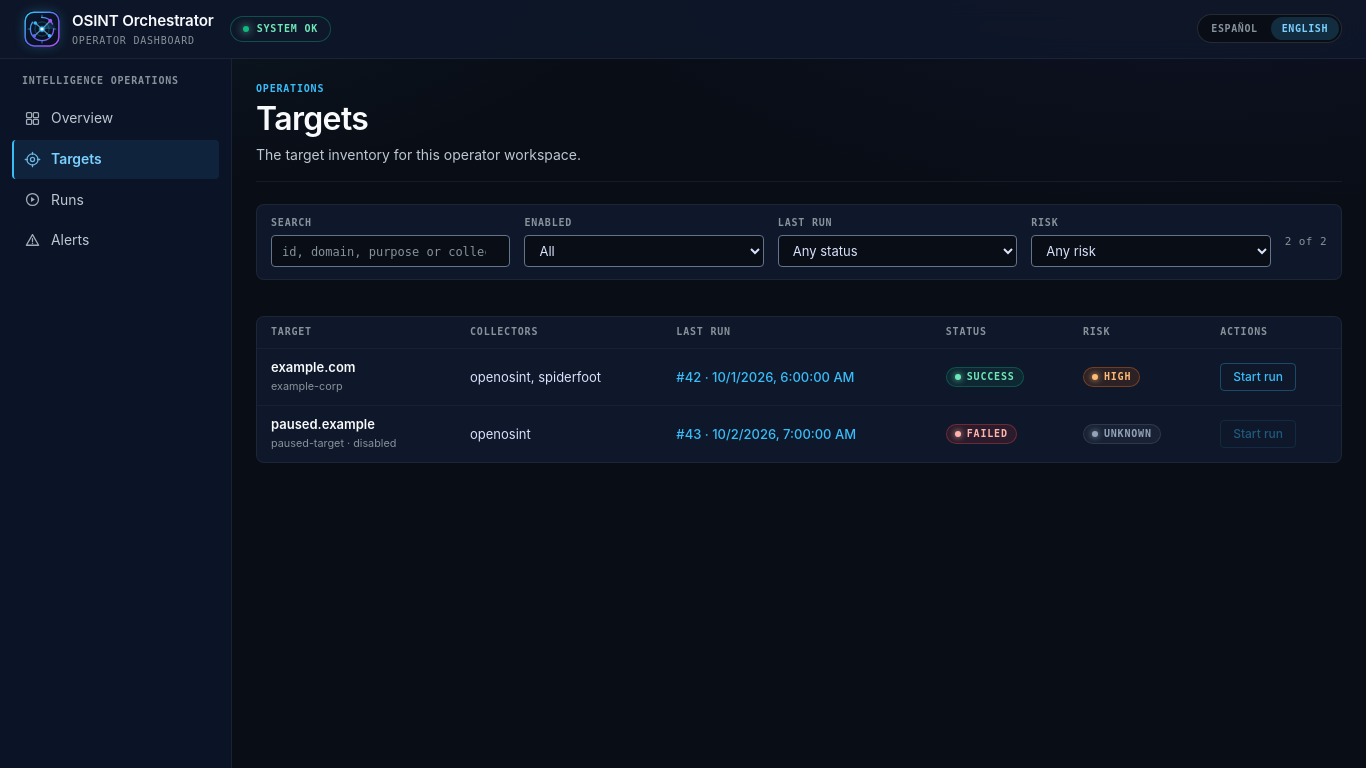
App shell › translates a rejected run by its status and keeps the server detail
The width and height of the screenshot is (1366, 768).
Expected: the table is shown, [256,316,1342,463]
Click the button named "start run for example-corp": {"x": 1258, "y": 377} [1220,363,1296,391]
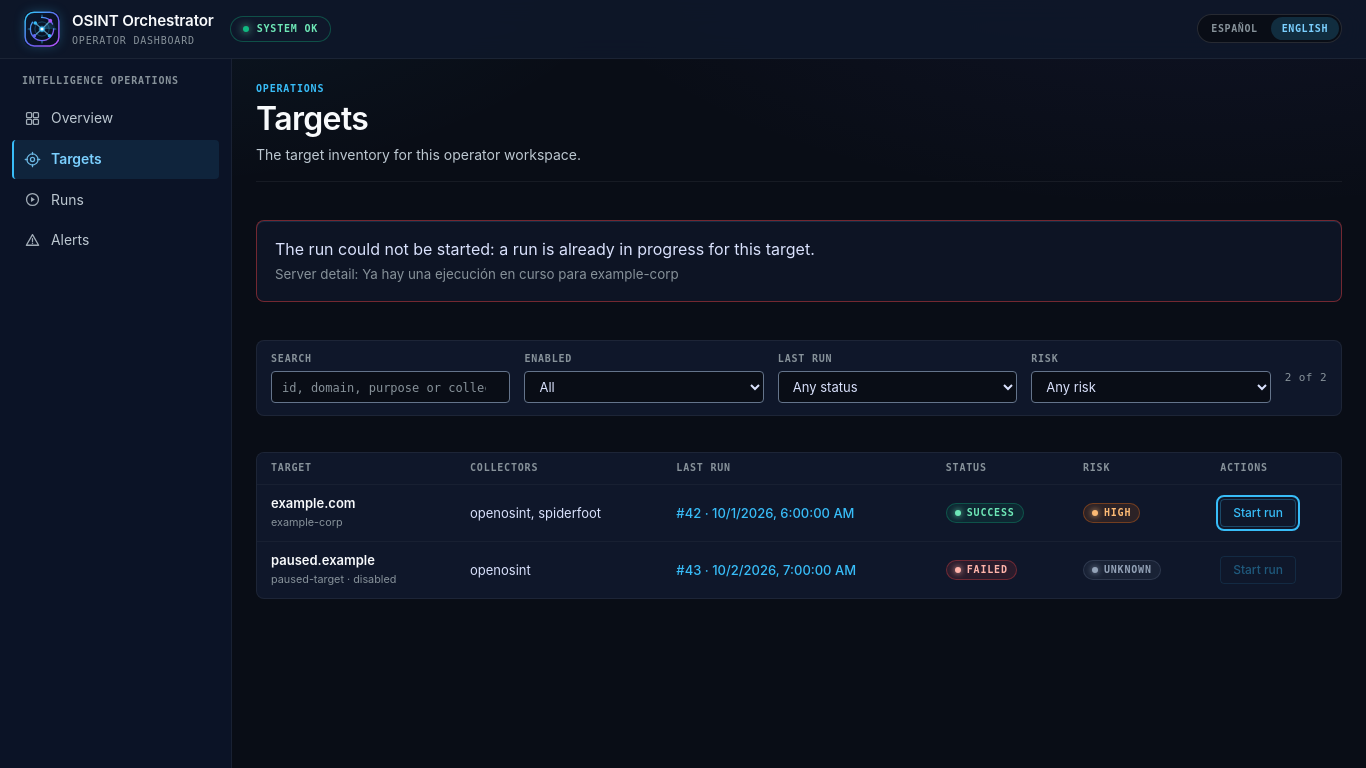
Result: the 1st message shows "a run is already in progress" at [275,239,815,259]
Result: the 1st message shows "server detail: ya hay una ejecución en curso" at [275,266,678,282]
